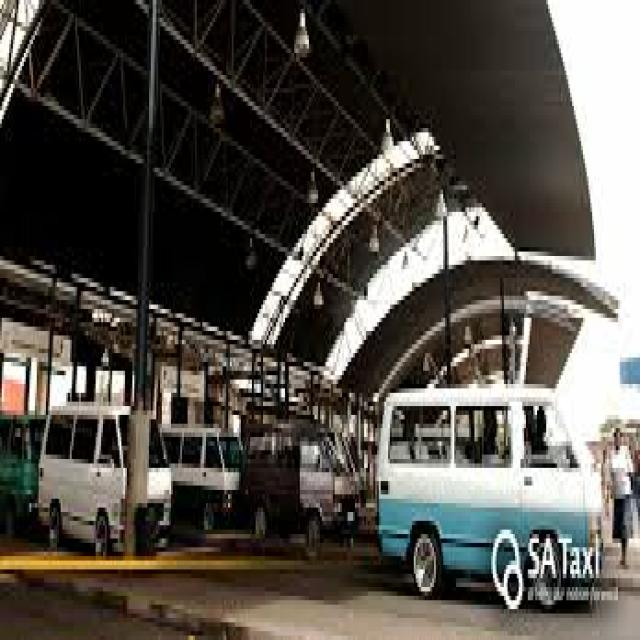MiniBus taxi: (370, 384, 603, 605), (35, 406, 175, 556), (609, 420, 634, 570)
